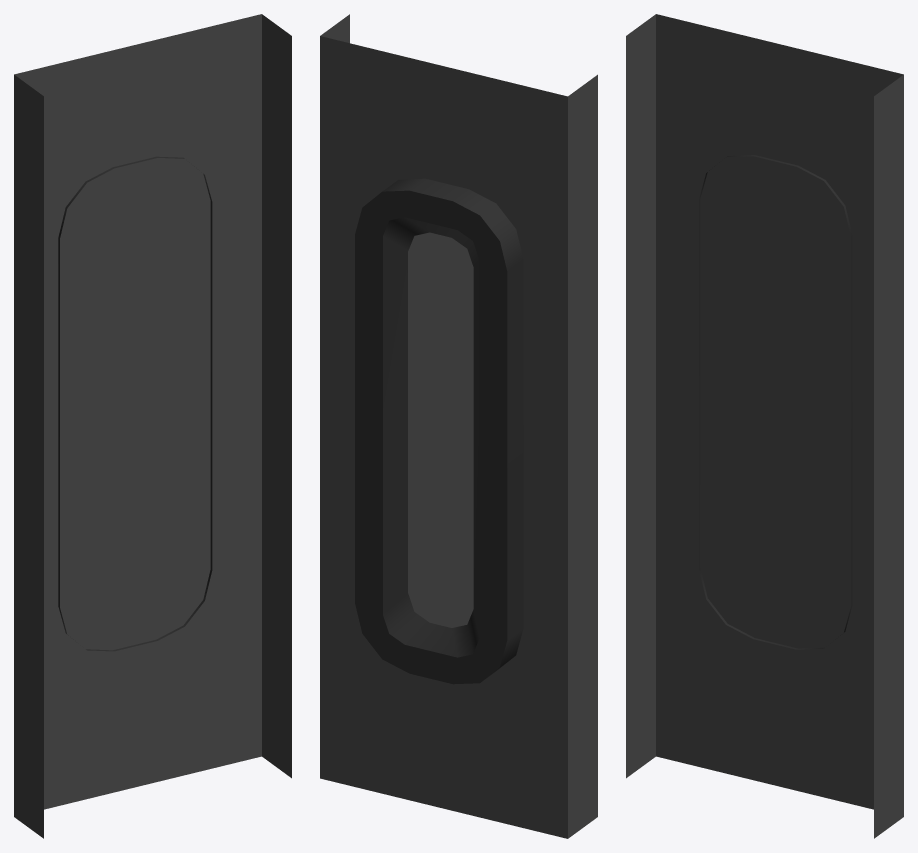
Rendered from SM_wall_front_025.fbx.
The picture shows the model from 3 angles, left to right: view 1: azimuth 30°, elevation 25°; view 2: azimuth 150°, elevation 25°; view 3: azimuth 330°, elevation 25°; orthographic projection.
Parts seen in each view (by area): view 1: SM_wall_front_025; view 2: SM_wall_front_025; view 3: SM_wall_front_025.
Part boxes in pixels (left/top/right/bottom): SM_wall_front_025: left=14, top=14, right=291, bottom=838; SM_wall_front_025: left=320, top=14, right=597, bottom=838; SM_wall_front_025: left=626, top=14, right=903, bottom=838.
Size of the model in its own units: 48.76 by 140 by 15.79.
Materials: 2 (2 with a texture image).
